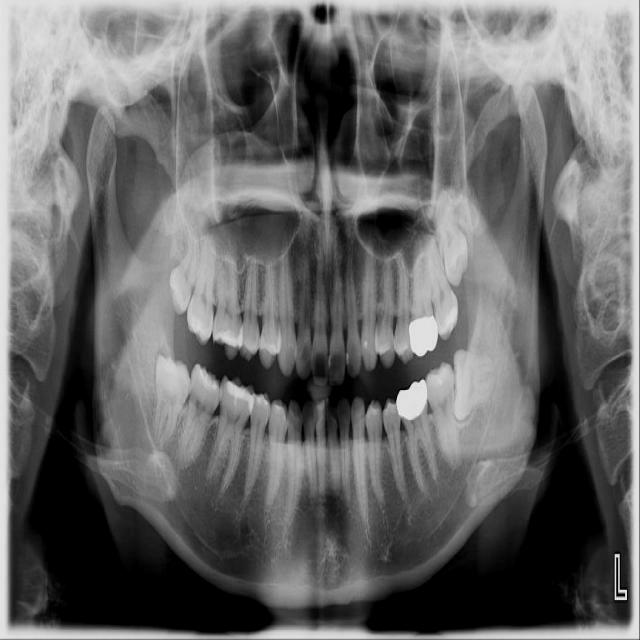Crown: (395, 375, 427, 426), (409, 316, 439, 357)
Filling: (221, 378, 254, 406), (197, 366, 218, 392), (212, 329, 240, 348)
impacted tooth: (153, 354, 192, 449), (432, 189, 471, 283), (452, 349, 501, 419), (167, 218, 202, 313)
